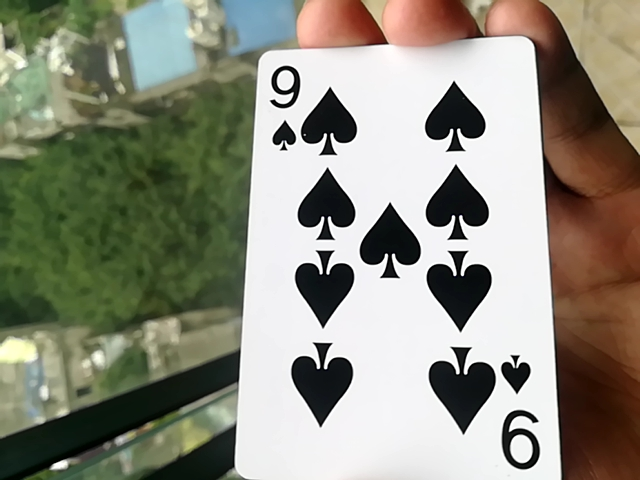ht 9: (224, 35, 545, 479)
